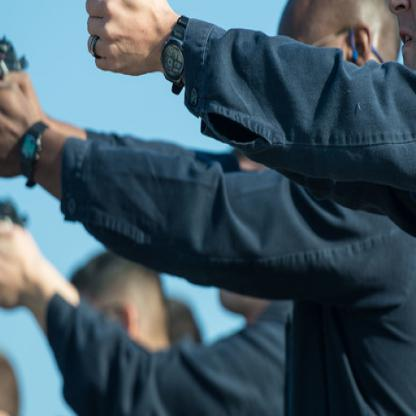gun: (0, 14, 29, 102), (0, 184, 29, 254)
